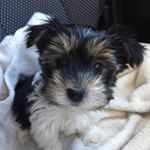puppy: (22, 16, 150, 111)
